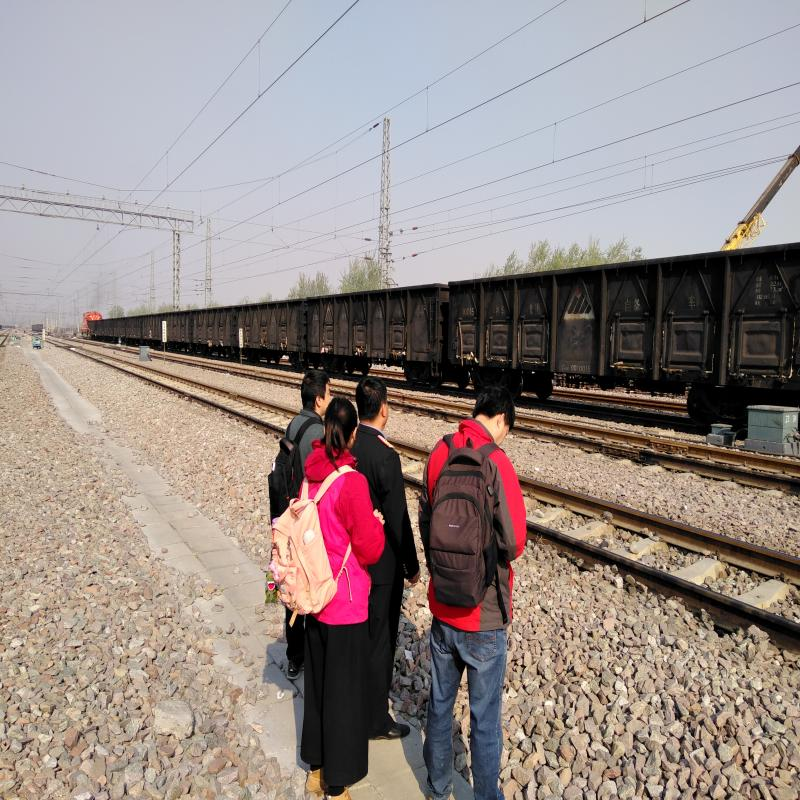train: (301, 293, 444, 395)
